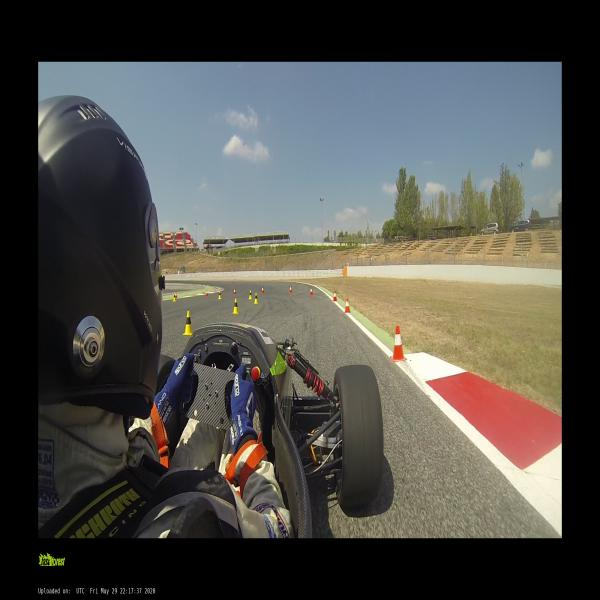orange_cone: (389, 326, 407, 364), (344, 298, 350, 313), (332, 290, 338, 302), (308, 286, 312, 296), (288, 287, 292, 294), (261, 286, 264, 294), (233, 289, 236, 295), (205, 290, 208, 296), (175, 292, 177, 299)
yellow_cone: (182, 310, 194, 335), (232, 298, 239, 314), (254, 292, 258, 304), (218, 291, 222, 300), (248, 290, 252, 299), (173, 294, 176, 302)
